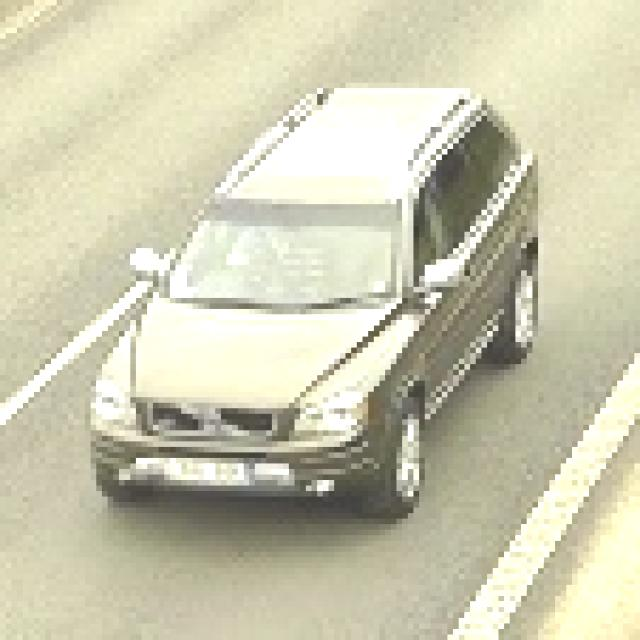SUV: (115, 92, 507, 491)
